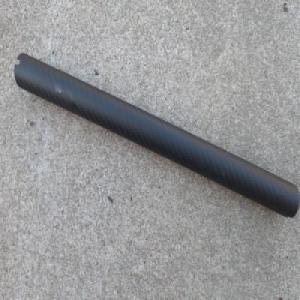LuggagePart: (13, 51, 300, 220)
